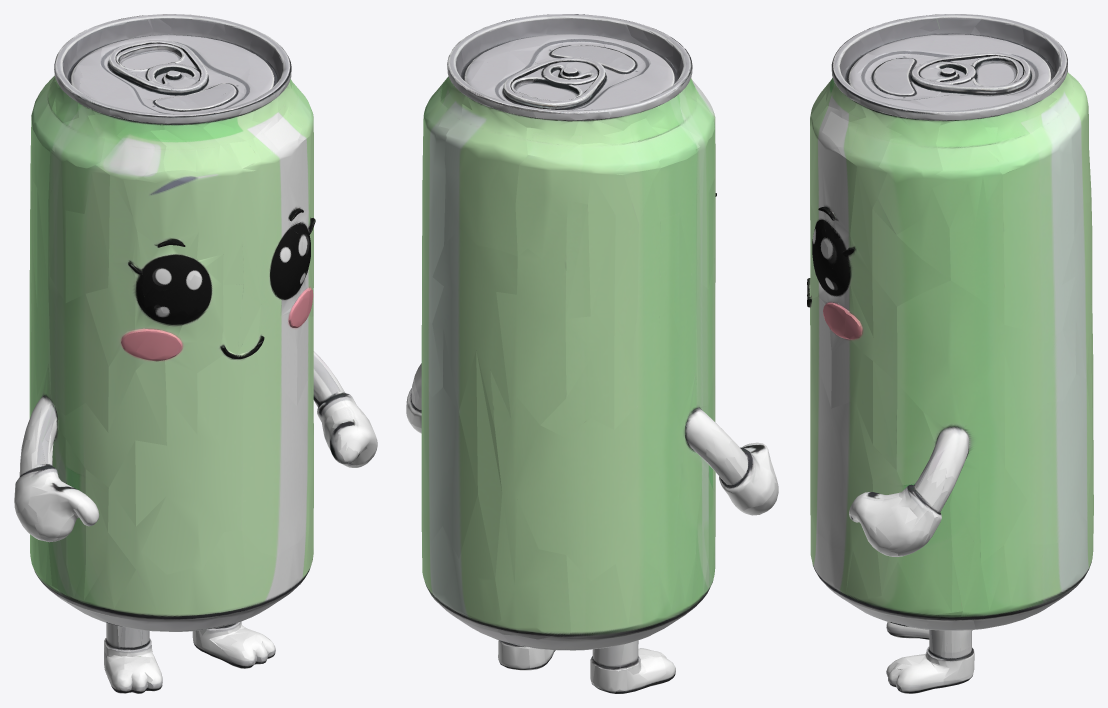
File: CanBug.fbx
3 renders of one model, left to right at view 1: azimuth 30°, elevation 25°; view 2: azimuth 150°, elevation 25°; view 3: azimuth 270°, elevation 25°, orthographic. The views are drawn at different scales.
Visible parts, largest first — view 1: output_unwrapped; view 2: output_unwrapped; view 3: output_unwrapped.
Part boxes in pixels (x1,y1,x2,y2): output_unwrapped: (14, 14, 377, 693); output_unwrapped: (406, 14, 778, 693); output_unwrapped: (807, 14, 1093, 693).
Size of the model in its own units: 61.35 by 100 by 43.54.
1 material, 1 textured.
